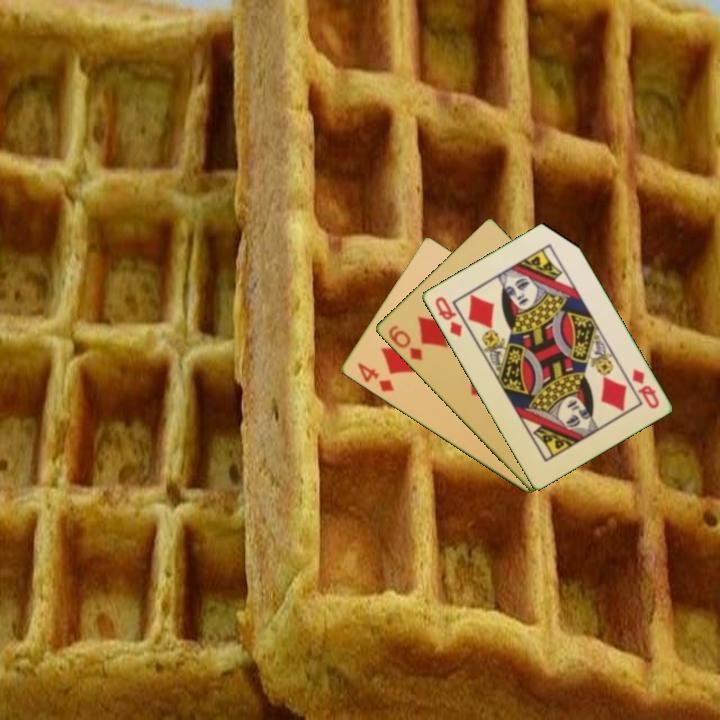4d: (353, 359, 396, 395)
6d: (384, 321, 425, 364)
Qd: (431, 293, 465, 340), (628, 365, 662, 412)
